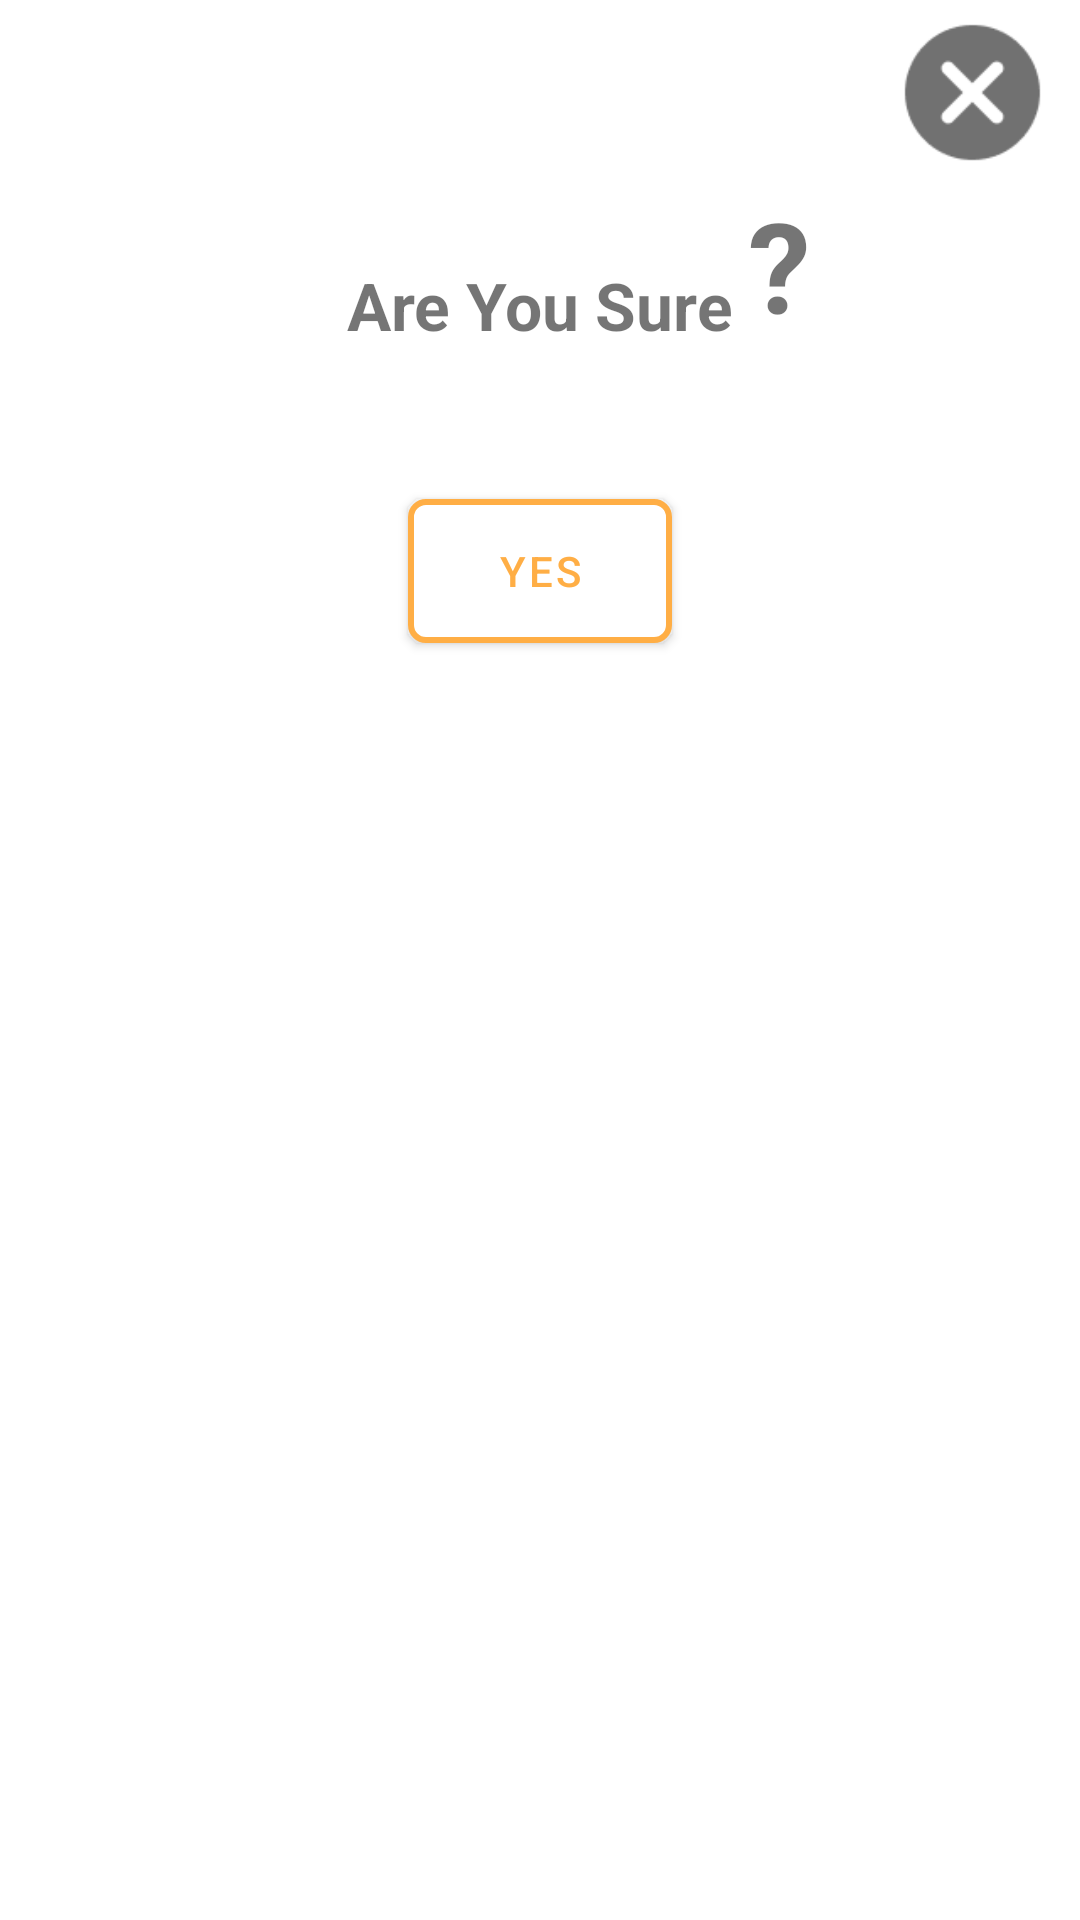

Screen size 1080 x 1920. Icon name, then its box in pixels as detection(x1, y1, x2, y2):
close: detection(904, 25, 1040, 161)
